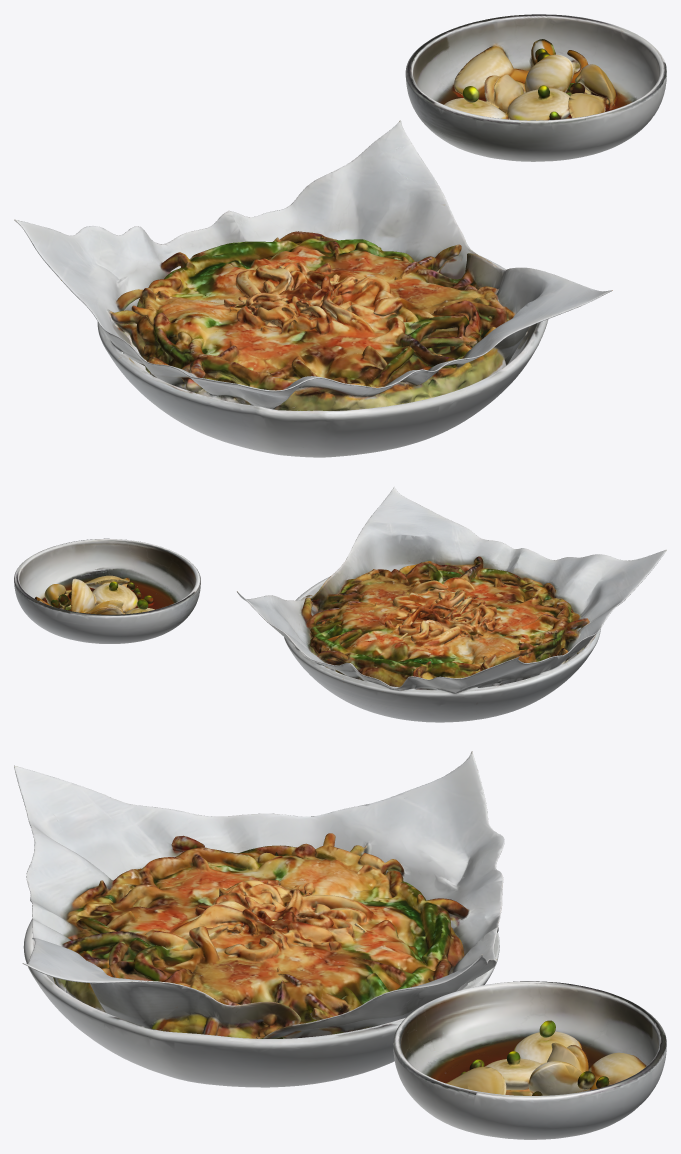
The model's file is crispyvegetable.glb.
3 renders of one model, top to bottom at view 1: azimuth 30°, elevation 25°; view 2: azimuth 150°, elevation 25°; view 3: azimuth 270°, elevation 25°, orthographic. The views are drawn at different scales.
Bounding box in the file's own units: 0.5694 × 0.1269 × 0.4567.
Materials: 1 (1 with a texture image).
